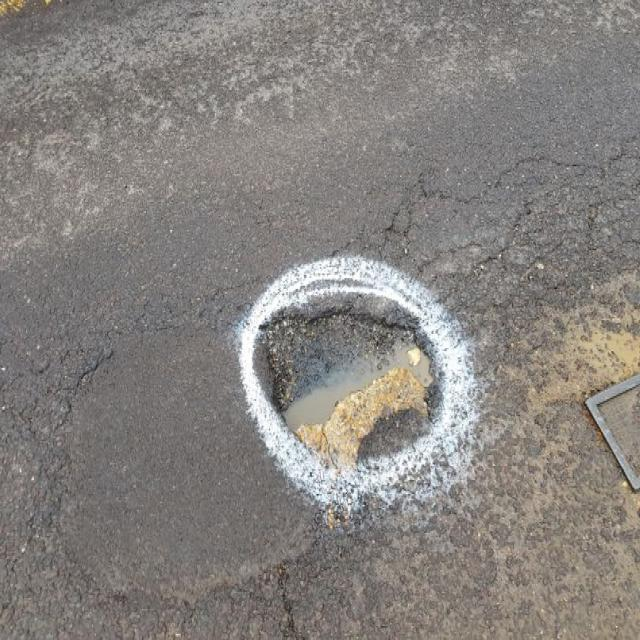pothole: (259, 296, 443, 489)
